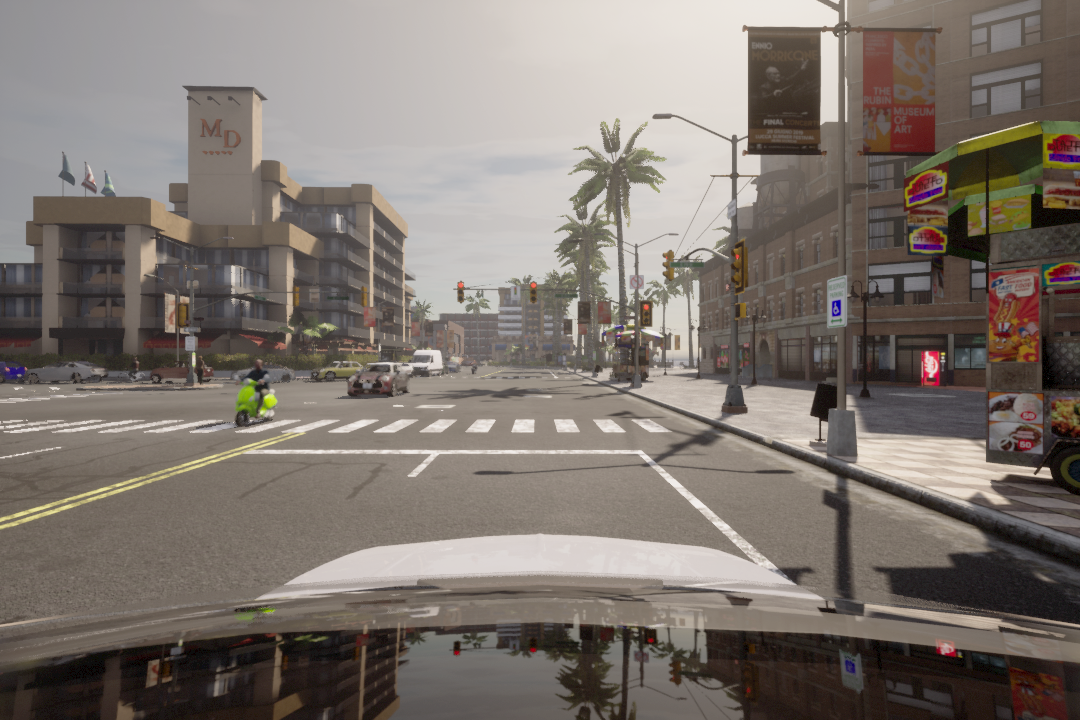TrafficLight: (730, 241, 748, 293), (661, 247, 677, 284), (640, 302, 652, 330), (527, 280, 537, 307), (454, 281, 465, 302)
TrafficSign: (627, 271, 644, 291)
walkside: (2, 417, 694, 441)
